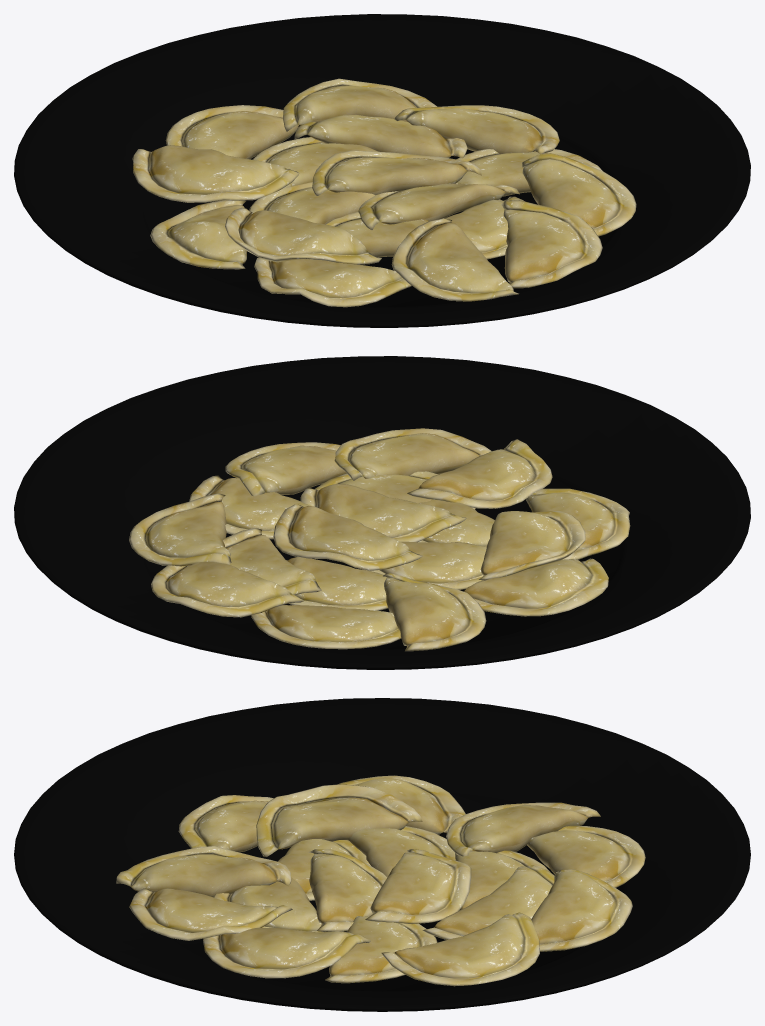
File: Vareniks.fbx
3 renders of one model, top to bottom at view 1: azimuth 30°, elevation 25°; view 2: azimuth 150°, elevation 25°; view 3: azimuth 270°, elevation 25°, orthographic.
Parts seen in each view (by area): view 1: Plate, Varenik4, Varenik3, Varenik16, Varenik15, Varenik2, Varenik12, Varenik, Varenik10, Varenik5, Varenik1, Varenik11 (+7 smaller); view 2: Plate, Varenik12, Varenik1, Varenik3, Varenik16, Varenik4, Varenik8, Varenik10, Varenik5, Varenik2, Varenik13, Varenik15 (+7 smaller); view 3: Plate, Varenik2, Varenik10, Varenik15, Varenik3, Varenik8, Varenik12, Varenik16, Varenik4, Varenik5, Varenik13, Varenik11 (+7 smaller).
Part boxes in pixels (x1,y1,x2,y2): Plate: [14, 14, 750, 327]; Varenik4: [132, 145, 299, 202]; Varenik3: [391, 218, 518, 301]; Varenik16: [501, 200, 602, 288]; Varenik15: [522, 153, 636, 236]; Varenik2: [225, 207, 381, 264]; Varenik12: [312, 150, 481, 195]; Varenik: [254, 257, 411, 307]; Varenik10: [394, 105, 559, 154]; Varenik5: [165, 105, 298, 159]; Varenik1: [150, 200, 247, 269]; Varenik11: [294, 114, 467, 158]; Plate: [14, 356, 750, 669]; Varenik12: [273, 504, 422, 570]; Varenik1: [464, 558, 608, 616]; Varenik3: [407, 439, 552, 508]; Varenik16: [334, 428, 491, 480]; Varenik4: [383, 573, 486, 651]; Varenik8: [151, 561, 304, 617]; Varenik10: [129, 493, 231, 566]; Varenik5: [251, 605, 401, 649]; Varenik2: [479, 511, 585, 580]; Varenik13: [300, 484, 466, 542]; Varenik15: [225, 442, 346, 496]; Plate: [14, 698, 750, 1011]; Varenik2: [256, 784, 422, 856]; Varenik10: [381, 912, 539, 986]; Varenik15: [203, 928, 370, 978]; Varenik3: [116, 846, 291, 896]; Varenik8: [531, 869, 632, 951]; Varenik12: [365, 849, 471, 924]; Varenik16: [129, 888, 292, 940]; Varenik4: [446, 802, 600, 856]; Varenik5: [527, 825, 645, 887]; Varenik13: [308, 849, 387, 931]; Varenik11: [422, 865, 554, 939].
Size of the model in its own units: 155 by 11.13 by 155.
2 materials, 1 textured.
